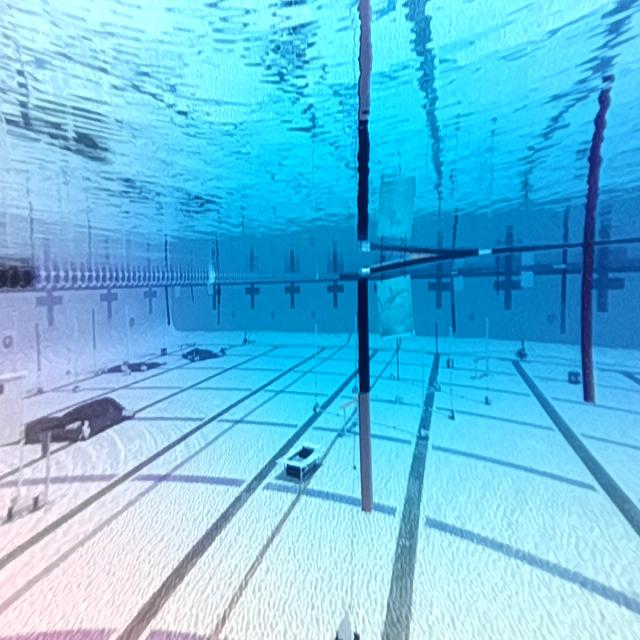round_nose: (376, 276, 412, 332)
